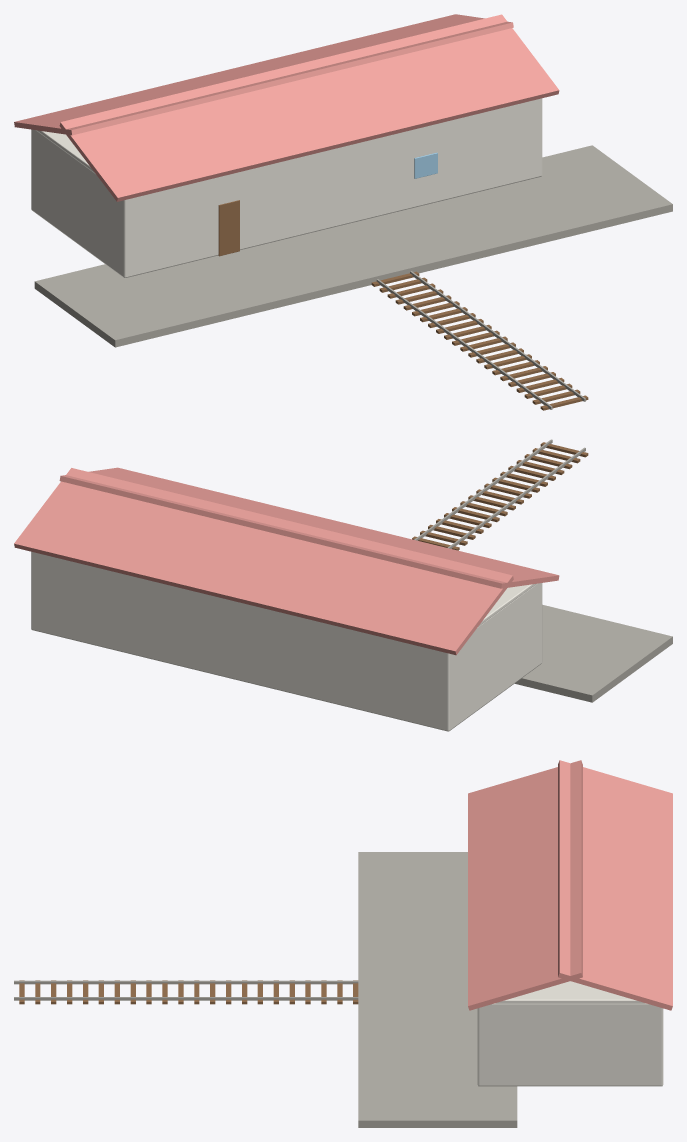
File: SongjeongStation_blockout.glb
3 views of the same model, one above another, from view 1: azimuth 30°, elevation 25°; view 2: azimuth 150°, elevation 25°; view 3: azimuth 270°, elevation 25° (orthographic).
Parts seen in each view (by area): view 1: ENV13_SongjeongStation_Platform_L0, ENV13_SongjeongStation_StationWall_L0, ENV13_SongjeongStation_GableRoof0_L0, ENV13_SongjeongStation_GableRoof1_L0, ENV13_SongjeongStation_StationDoor_L0, ENV13_SongjeongStation_TrackRail0_L0, ENV13_SongjeongStation_TrackRail2_L0; view 2: ENV13_SongjeongStation_StationWall_L0, ENV13_SongjeongStation_GableRoof1_L0, ENV13_SongjeongStation_GableRoof0_L0, ENV13_SongjeongStation_Platform_L0, ENV13_SongjeongStation_TrackRail2_L0, ENV13_SongjeongStation_TrackRail0_L0, ENV13_SongjeongStation_StationRoof_L0; view 3: ENV13_SongjeongStation_Platform_L0, ENV13_SongjeongStation_GableRoof0_L0, ENV13_SongjeongStation_GableRoof1_L0, ENV13_SongjeongStation_StationWall_L0, ENV13_SongjeongStation_StationRoof_L0, ENV13_SongjeongStation_TrackRail0_L0, ENV13_SongjeongStation_TrackRail2_L0.
Part boxes in pixels (left/top/right/bottom): ENV13_SongjeongStation_Platform_L0: left=34, top=145, right=672, bottom=347; ENV13_SongjeongStation_StationWall_L0: left=31, top=98, right=542, bottom=277; ENV13_SongjeongStation_GableRoof0_L0: left=59, top=14, right=559, bottom=201; ENV13_SongjeongStation_GableRoof1_L0: left=14, top=14, right=513, bottom=135; ENV13_SongjeongStation_StationDoor_L0: left=218, top=200, right=239, bottom=256; ENV13_SongjeongStation_TrackRail0_L0: left=376, top=279, right=552, bottom=409; ENV13_SongjeongStation_TrackRail2_L0: left=410, top=271, right=585, bottom=401; ENV13_SongjeongStation_StationWall_L0: left=31, top=551, right=542, bottom=731; ENV13_SongjeongStation_GableRoof1_L0: left=14, top=468, right=513, bottom=655; ENV13_SongjeongStation_GableRoof0_L0: left=59, top=467, right=559, bottom=588; ENV13_SongjeongStation_Platform_L0: left=515, top=604, right=672, bottom=702; ENV13_SongjeongStation_TrackRail2_L0: left=414, top=439, right=552, bottom=540; ENV13_SongjeongStation_TrackRail0_L0: left=447, top=447, right=585, bottom=548; ENV13_SongjeongStation_StationRoof_L0: left=478, top=583, right=536, bottom=626; ENV13_SongjeongStation_Platform_L0: left=358, top=852, right=517, bottom=1127; ENV13_SongjeongStation_GableRoof0_L0: left=468, top=760, right=582, bottom=1010; ENV13_SongjeongStation_GableRoof1_L0: left=558, top=760, right=672, bottom=1010; ENV13_SongjeongStation_StationWall_L0: left=477, top=1003, right=663, bottom=1086; ENV13_SongjeongStation_StationRoof_L0: left=496, top=981, right=644, bottom=1003; ENV13_SongjeongStation_TrackRail0_L0: left=14, top=980, right=358, bottom=984; ENV13_SongjeongStation_TrackRail2_L0: left=14, top=997, right=358, bottom=1000.
Size of the model in its own units: 24 by 5.29 by 24.87.
